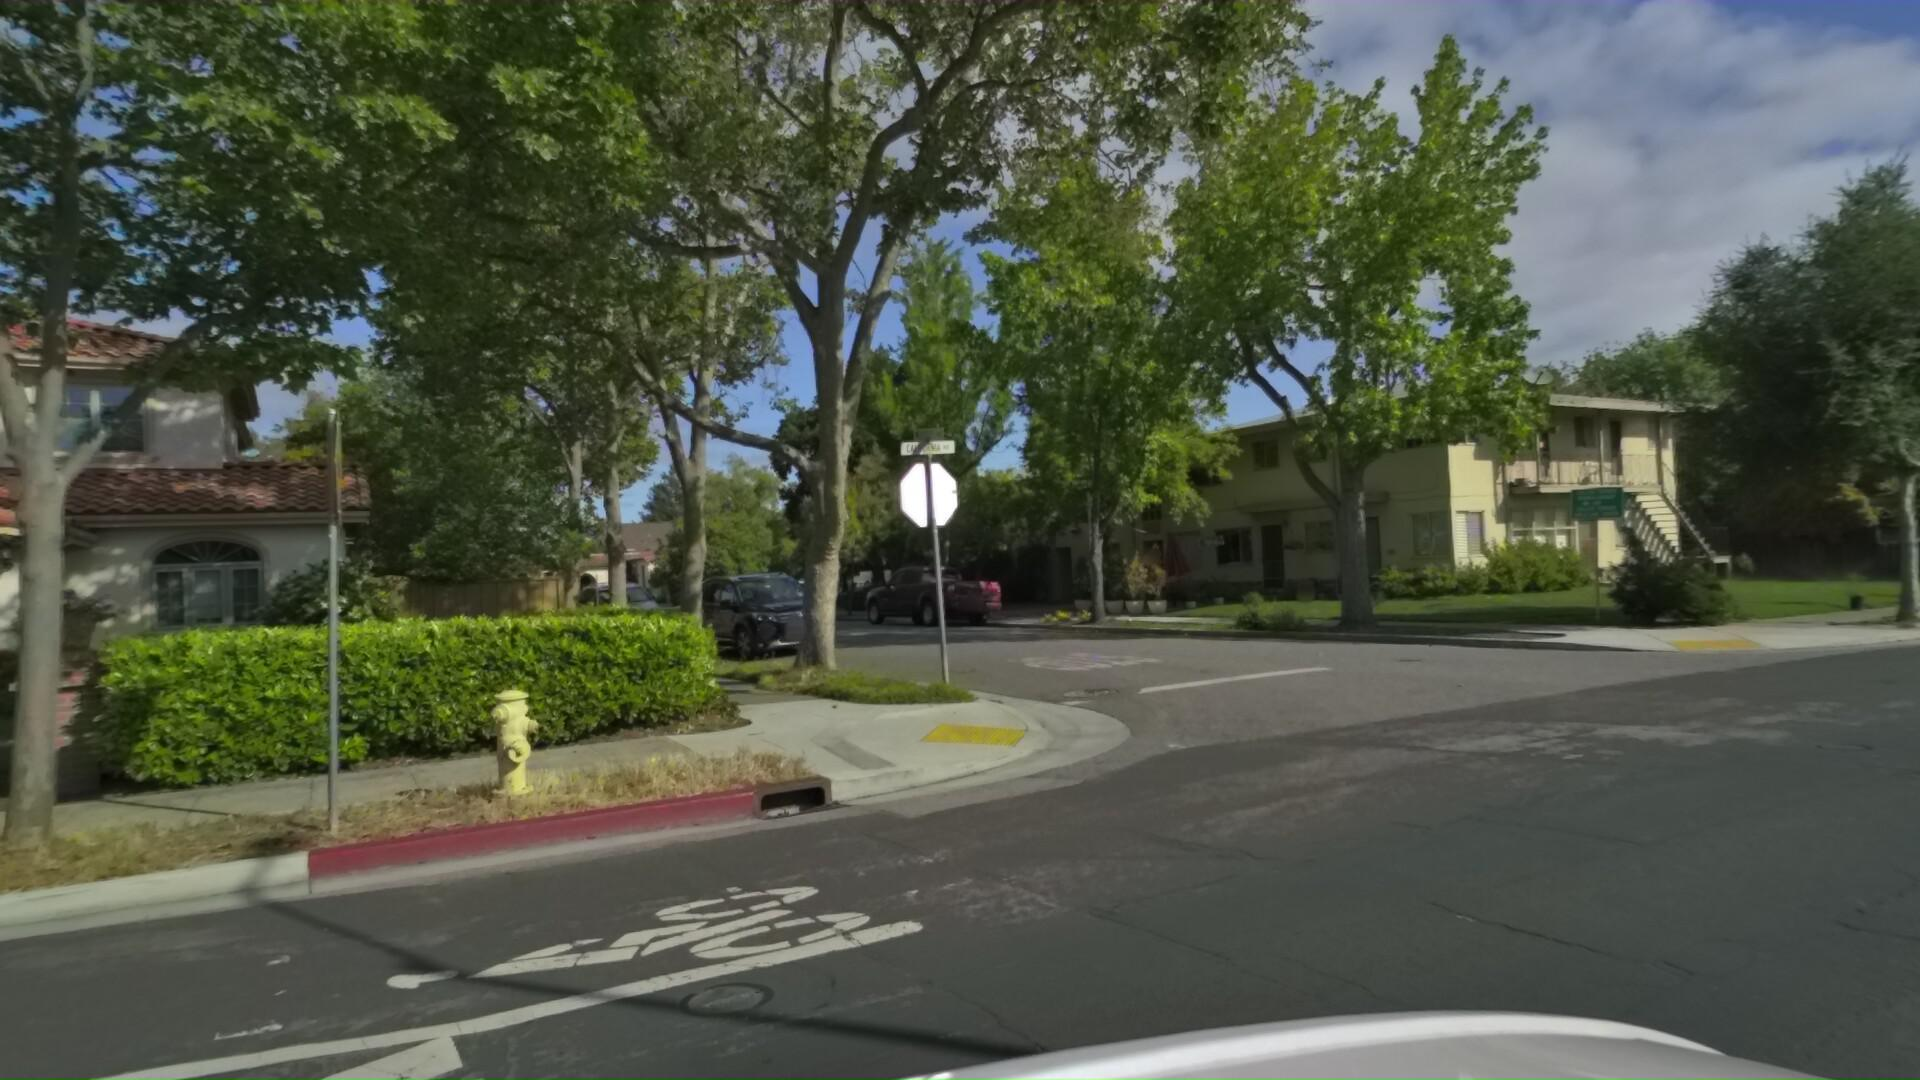car: (667, 560, 847, 663), (852, 556, 1006, 633), (564, 578, 670, 641), (748, 576, 836, 624)
